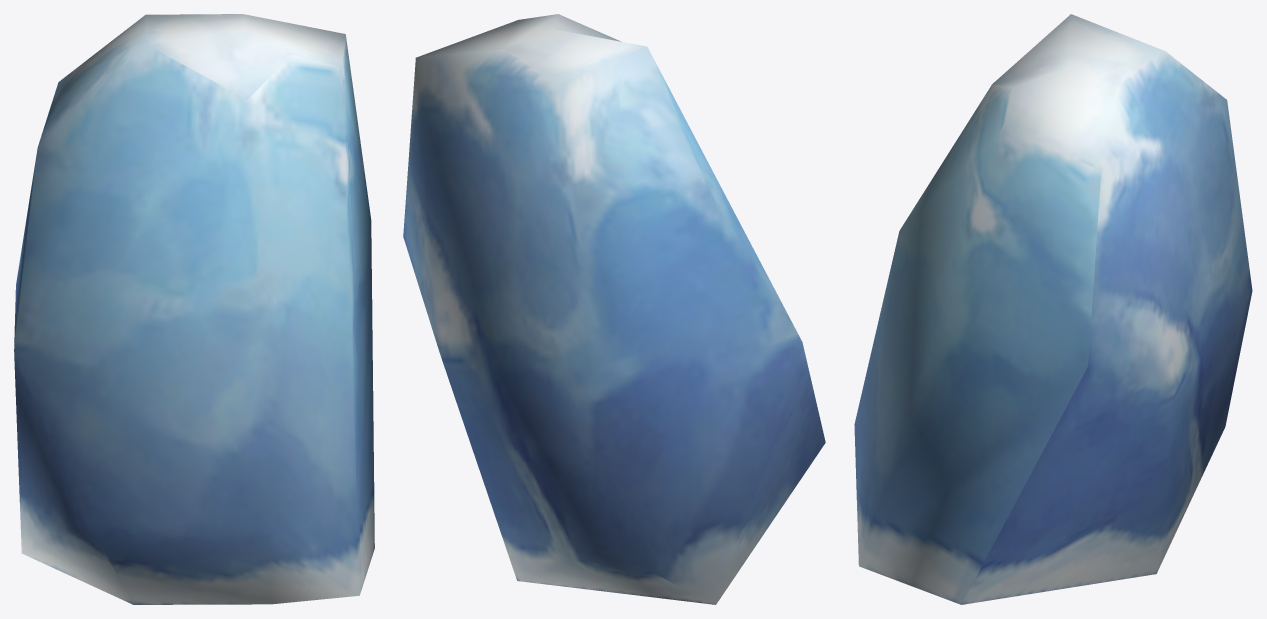
Rendered from SM_stoneB_01.fbx.
The picture shows the model from 3 angles, left to right: view 1: azimuth 30°, elevation 25°; view 2: azimuth 150°, elevation 25°; view 3: azimuth 270°, elevation 25°; orthographic projection.
Parts seen in each view (by area): view 1: SM_stoneB_01; view 2: SM_stoneB_01; view 3: SM_stoneB_01.
Boxes of the visible parts, x1,y1,x2,y2 form: SM_stoneB_01: (14,14,374,604); SM_stoneB_01: (403,14,825,604); SM_stoneB_01: (854,14,1252,604).
Bounding box in the file's own units: 1.77 × 2.33 × 1.62.
